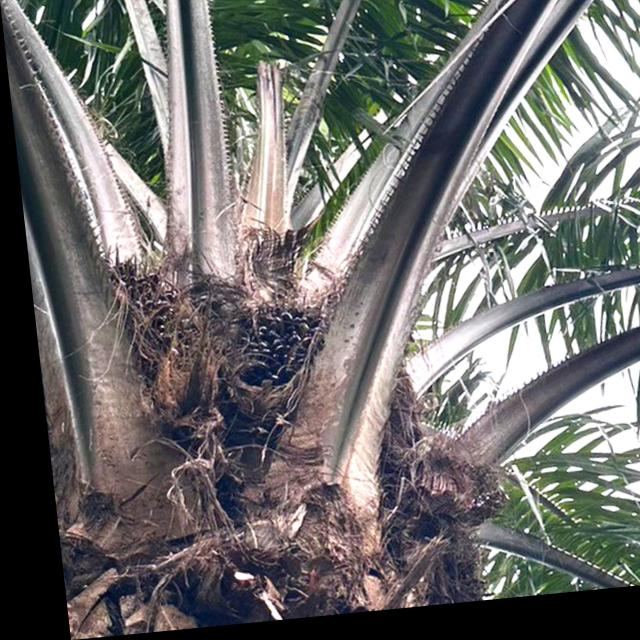unripe: (198, 292, 330, 418)
